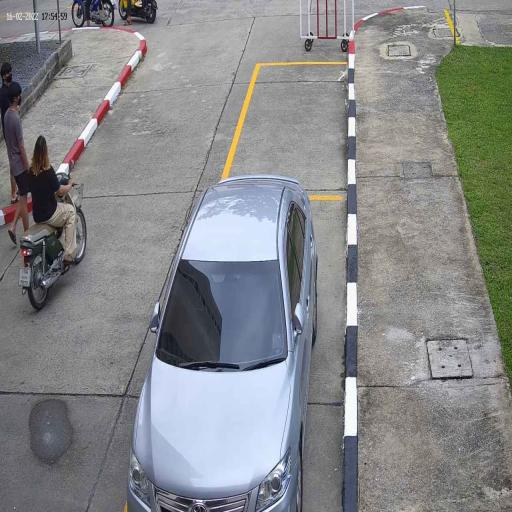car: (126, 173, 320, 512)
motorcycle: (18, 206, 88, 316)
